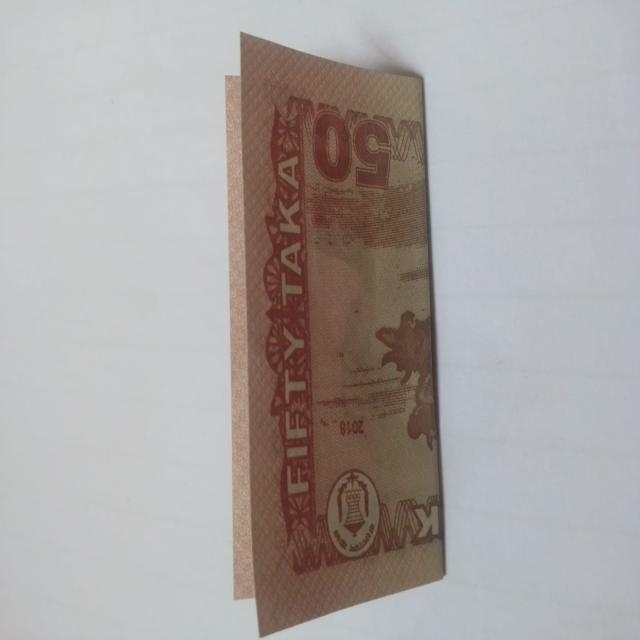Taka: (227, 29, 465, 606)
